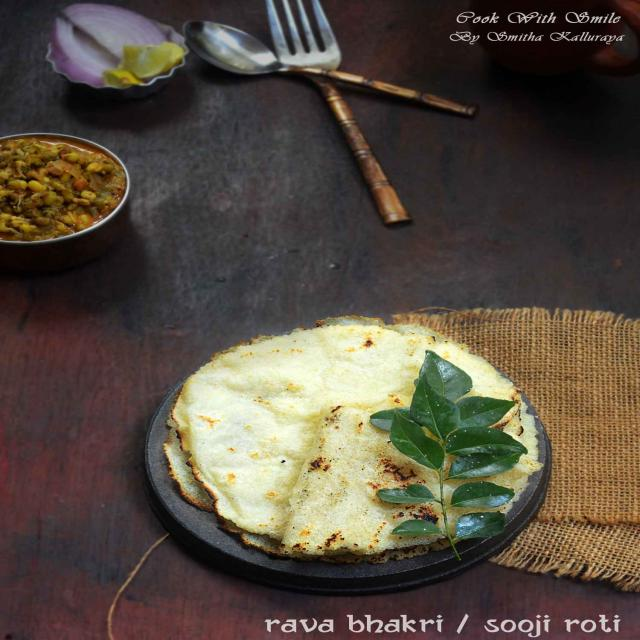RICE BHAKRI: (166, 318, 458, 555)
